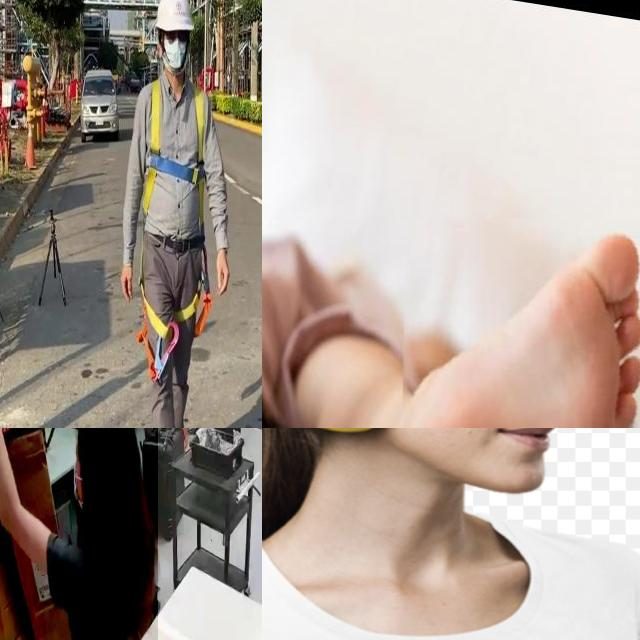Barefoots: (368, 191, 640, 428)
Ear-protection: (262, 428, 599, 514)
Harness: (144, 80, 207, 230), (137, 273, 208, 384), (193, 281, 212, 338)
head_nohelmet: (75, 428, 136, 441)
person: (0, 428, 158, 640)
